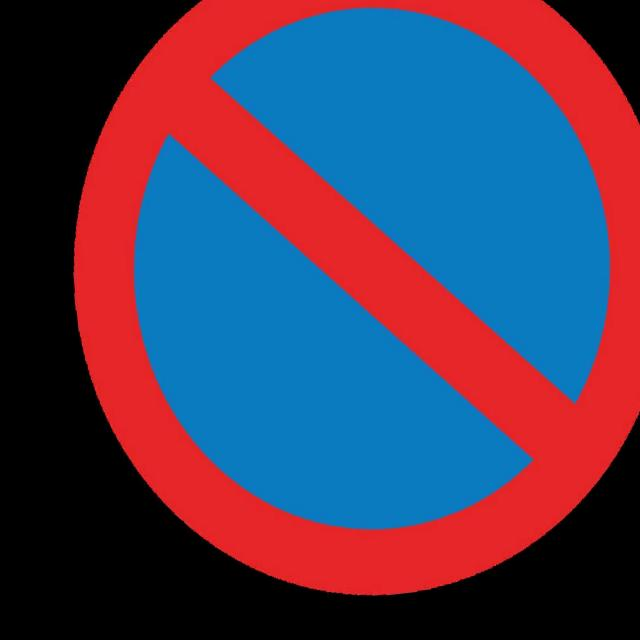forb_stopping: (76, 0, 640, 596)
